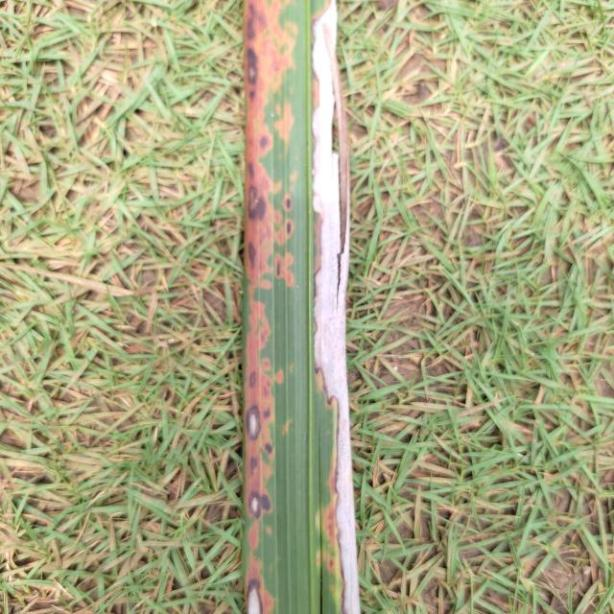Kalium: (236, 1, 363, 614)
